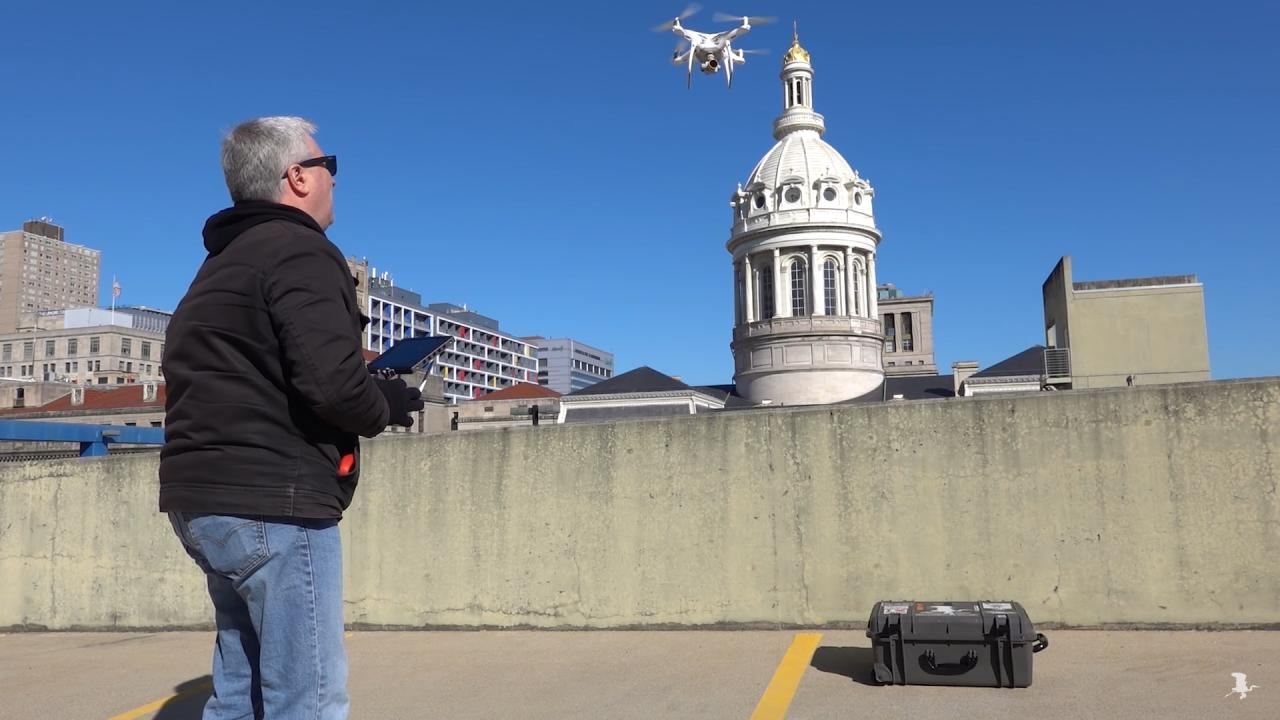Drone: (644, 0, 783, 98)
